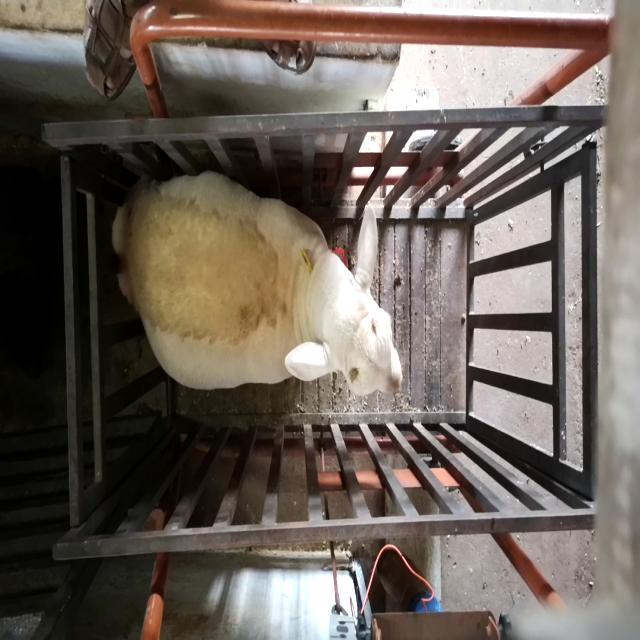sheep: (113, 172, 402, 396)
